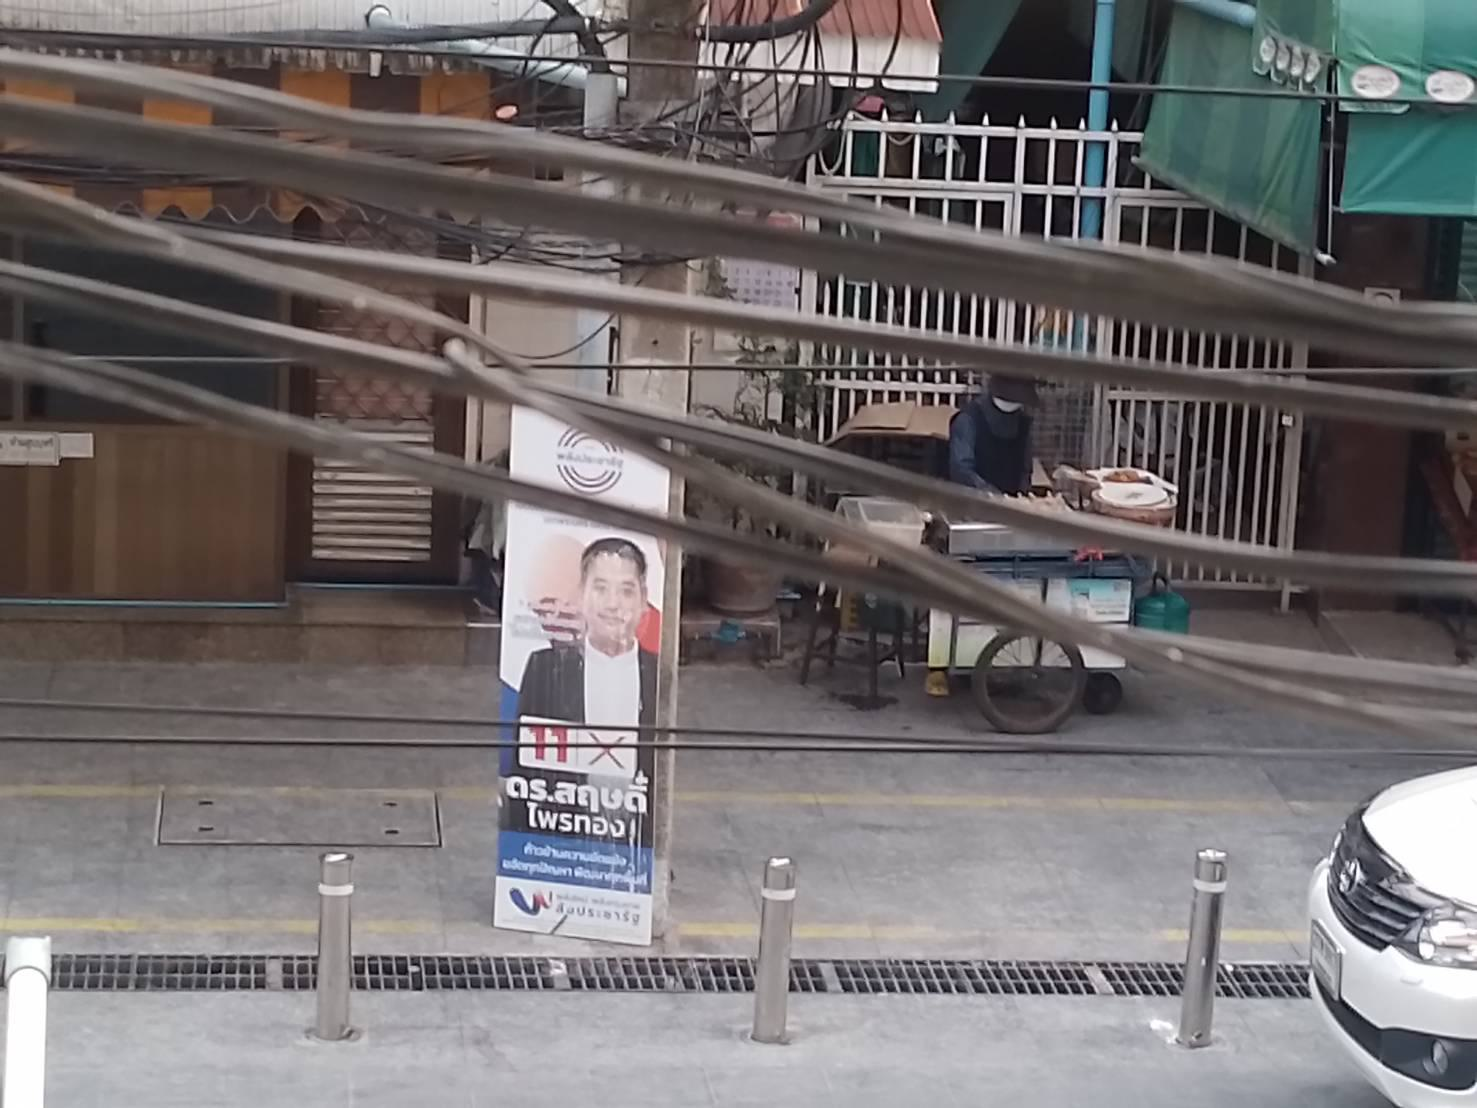Banner: (495, 397, 672, 963)
